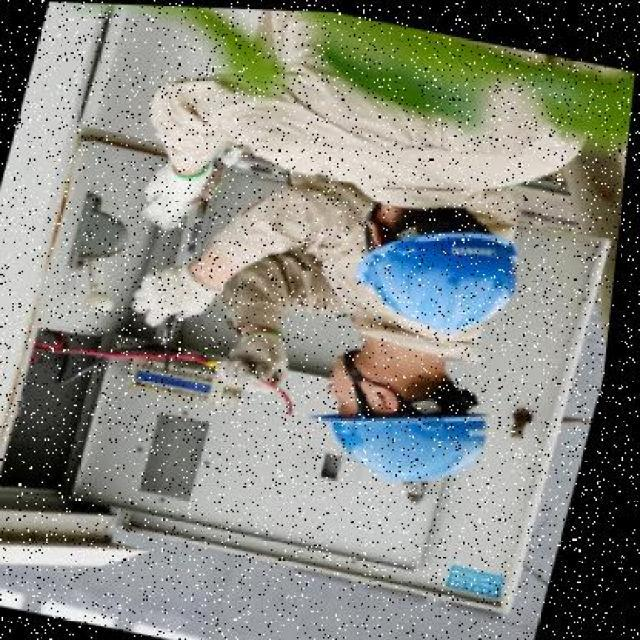helmet: (299, 351, 519, 497), (343, 186, 545, 344)
